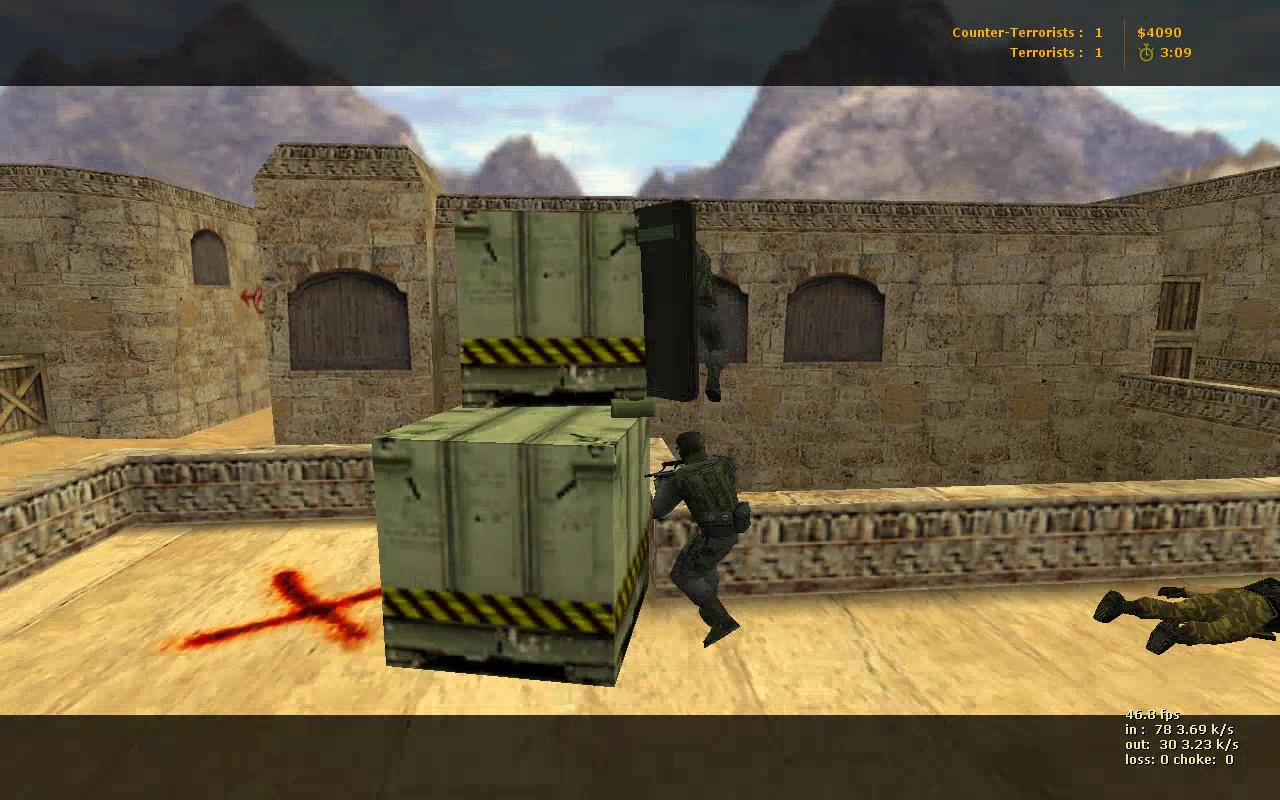ct: (647, 432, 752, 642), (635, 210, 730, 402)
dead: (1096, 570, 1280, 654)
